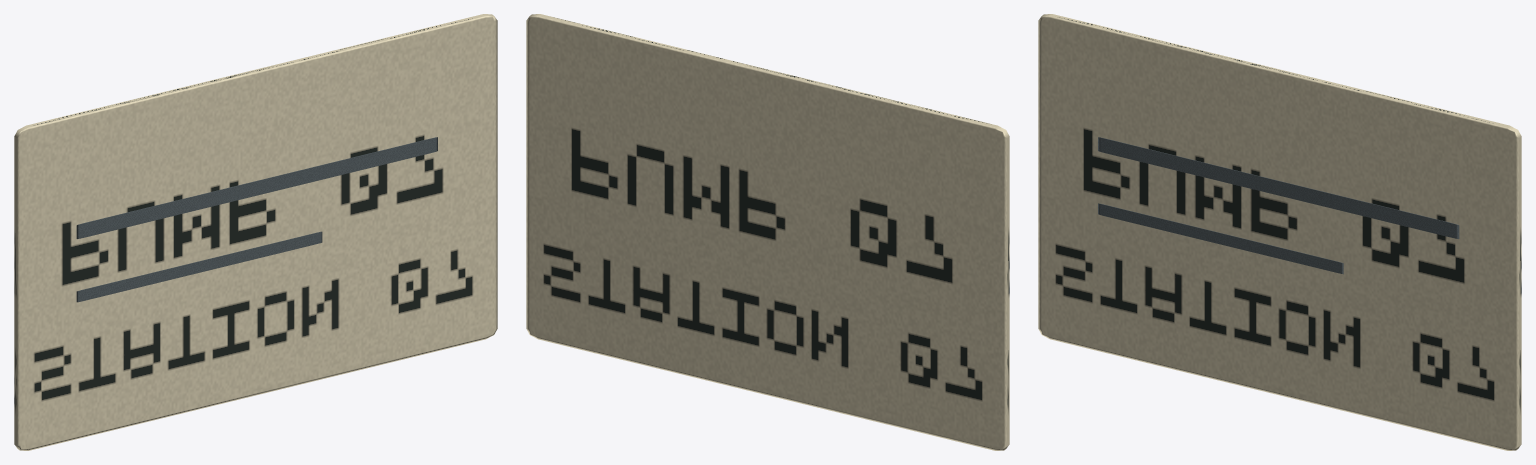
File: id-card.glb
3 views of the same model, side by side, from view 1: azimuth 30°, elevation 25°; view 2: azimuth 150°, elevation 25°; view 3: azimuth 330°, elevation 25° (orthographic).
Parts seen in each view (by area): view 1: board, stripe, line; view 2: board; view 3: board, stripe, line.
Part boxes in pixels (x1=…): board: x1=14, y1=14, x2=497, y2=450; stripe: x1=76, y1=137, x2=437, y2=238; line: x1=76, y1=231, x2=322, y2=302; board: x1=526, y1=14, x2=1009, y2=450; board: x1=1038, y1=14, x2=1521, y2=450; stripe: x1=1098, y1=137, x2=1459, y2=238; line: x1=1098, y1=203, x2=1343, y2=274.
Bounding box in the file's own units: 0.14 × 0.09 × 0.00136.
Materials: 2 (2 with a texture image).
